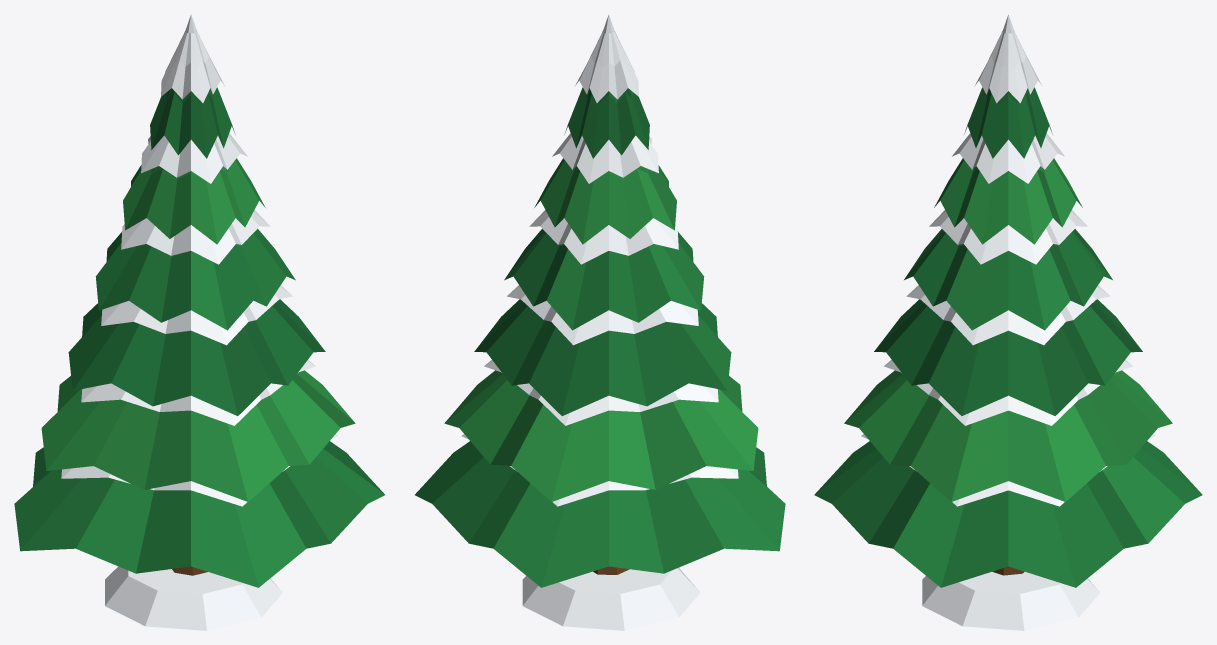
The model's file is pine.glb.
The picture shows the model from 3 angles, left to right: view 1: azimuth 30°, elevation 25°; view 2: azimuth 150°, elevation 25°; view 3: azimuth 270°, elevation 25°; orthographic projection.
Parts seen in each view (by area): view 1: pine; view 2: pine; view 3: pine.
Part boxes in pixels (<box>): pine: <box>14,14,384,630</box>; pine: <box>415,14,785,630</box>; pine: <box>814,14,1202,630</box>.
Bounding box in the file's own units: 9.17 × 15.3 × 9.32.
Materials: 1 (1 with a texture image).
